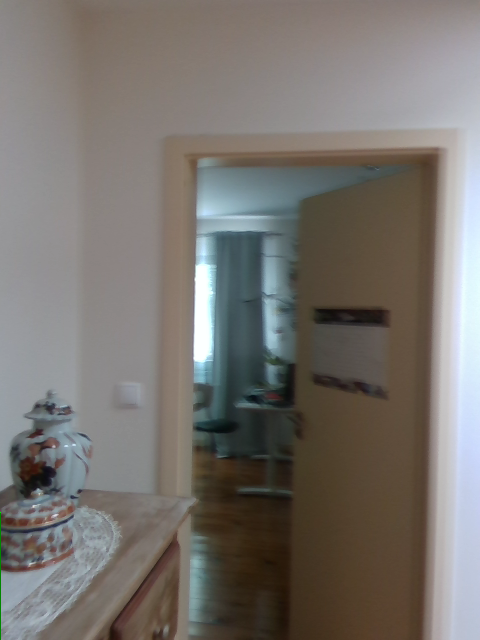semi: (160, 132, 453, 639)
